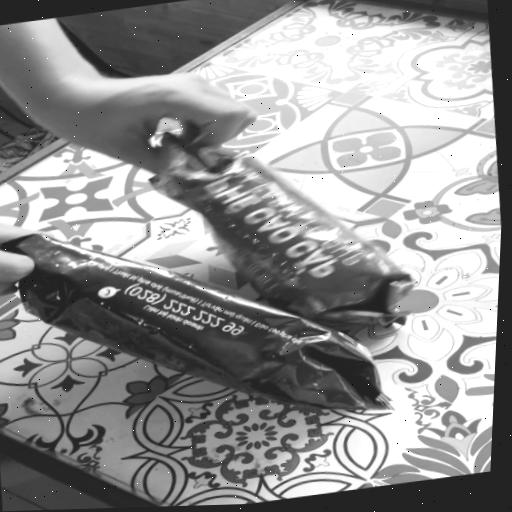cafe_hat: (2, 234, 391, 410)
cafe_xay: (152, 133, 413, 327)
